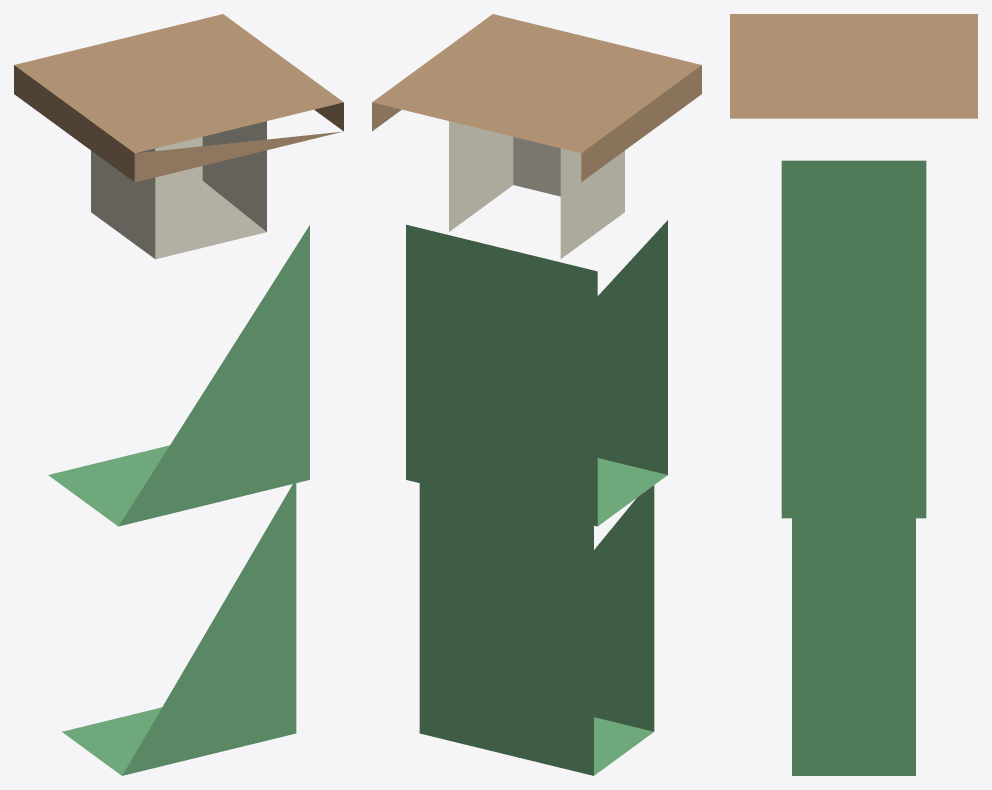
The model's file is ASTX_NPC_FARMER.glb.
3 views of the same model, side by side, from view 1: azimuth 30°, elevation 25°; view 2: azimuth 150°, elevation 25°; view 3: azimuth 270°, elevation 25° (orthographic). The views are drawn at different scales.
Parts seen in each view (by area): view 1: ASTX_NPC_FARMER_hat, ASTX_NPC_FARMER_torso, ASTX_NPC_FARMER_legs, ASTX_NPC_FARMER_head; view 2: ASTX_NPC_FARMER_torso, ASTX_NPC_FARMER_legs, ASTX_NPC_FARMER_hat, ASTX_NPC_FARMER_head; view 3: ASTX_NPC_FARMER_torso, ASTX_NPC_FARMER_legs, ASTX_NPC_FARMER_hat.
Boxes of the visible parts, bbox=[...] form: ASTX_NPC_FARMER_hat: bbox=[14, 14, 343, 182]; ASTX_NPC_FARMER_torso: bbox=[48, 225, 309, 526]; ASTX_NPC_FARMER_legs: bbox=[62, 483, 296, 775]; ASTX_NPC_FARMER_head: bbox=[91, 121, 266, 259]; ASTX_NPC_FARMER_torso: bbox=[406, 220, 667, 526]; ASTX_NPC_FARMER_legs: bbox=[419, 483, 654, 775]; ASTX_NPC_FARMER_hat: bbox=[372, 14, 701, 181]; ASTX_NPC_FARMER_head: bbox=[449, 121, 624, 258]; ASTX_NPC_FARMER_torso: bbox=[781, 160, 926, 518]; ASTX_NPC_FARMER_legs: bbox=[792, 518, 915, 775]; ASTX_NPC_FARMER_hat: bbox=[730, 14, 977, 118].
Size of the model in its own units: 0.6 by 1.78 by 0.6.
